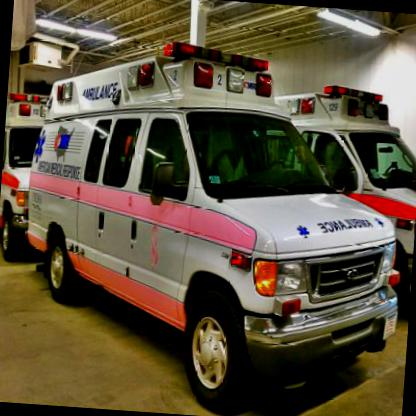truck: (13, 31, 415, 415), (256, 83, 415, 317), (0, 92, 53, 267)
